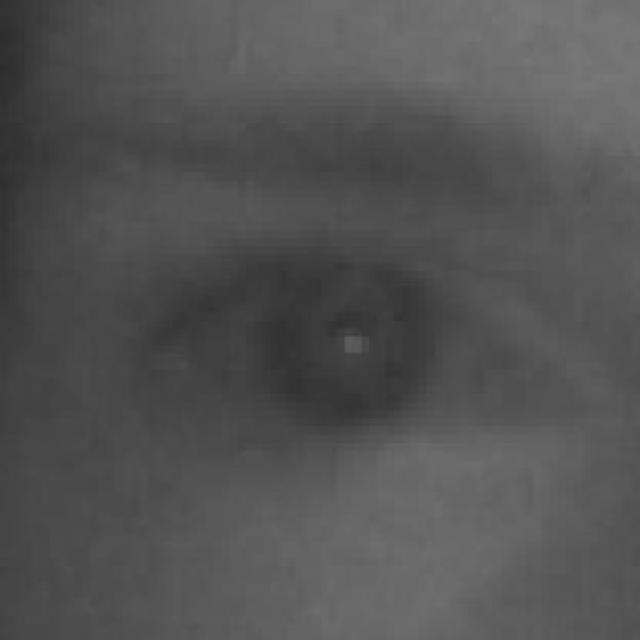awake: (160, 242, 562, 463)
